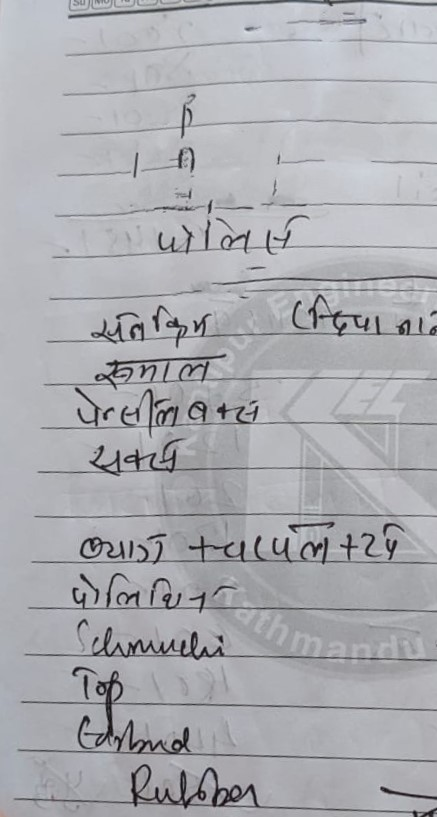text: (218, 514, 410, 569), (66, 385, 264, 431), (286, 287, 437, 340), (65, 573, 232, 615), (86, 300, 216, 348), (92, 353, 230, 389), (86, 434, 192, 479), (306, 290, 391, 340), (76, 522, 174, 564)
